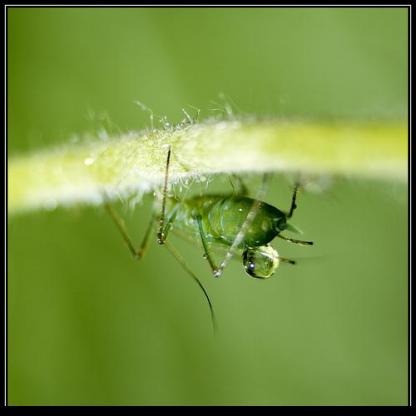aphid: (102, 143, 322, 309)
